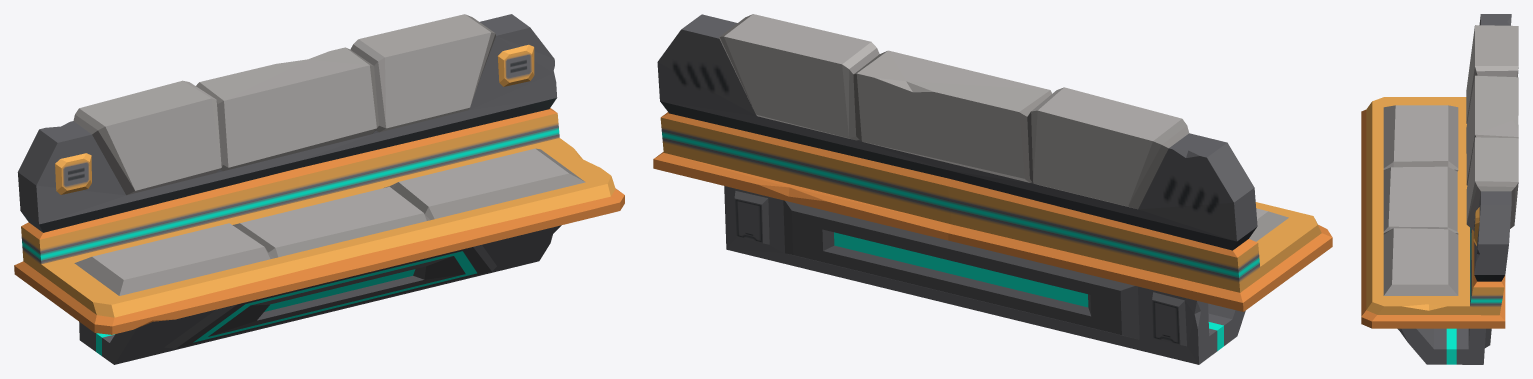
The model's file is SM_Prop_Bench_Seat_02.fbx.
3 views of the same model, side by side, from view 1: azimuth 30°, elevation 25°; view 2: azimuth 150°, elevation 25°; view 3: azimuth 270°, elevation 25° (orthographic). The views are drawn at different scales.
Parts seen in each view (by area): view 1: SM_Prop_Bench_Seat_02; view 2: SM_Prop_Bench_Seat_02; view 3: SM_Prop_Bench_Seat_02.
Part boxes in pixels (x1=…): SM_Prop_Bench_Seat_02: x1=14, y1=14, x2=624, y2=364; SM_Prop_Bench_Seat_02: x1=653, y1=14, x2=1332, y2=364; SM_Prop_Bench_Seat_02: x1=1361, y1=14, x2=1518, y2=364.
Bounding box in the file's own units: 236 × 91.29 × 73.11.
